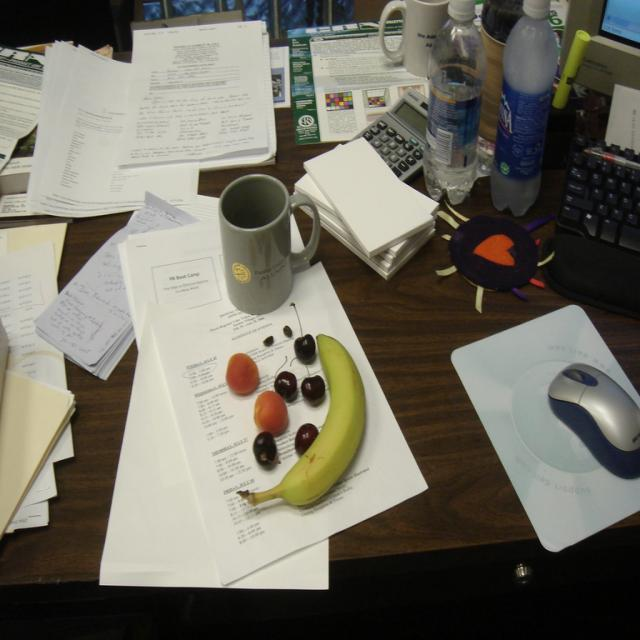Computer mouse: (548, 360, 640, 479)
